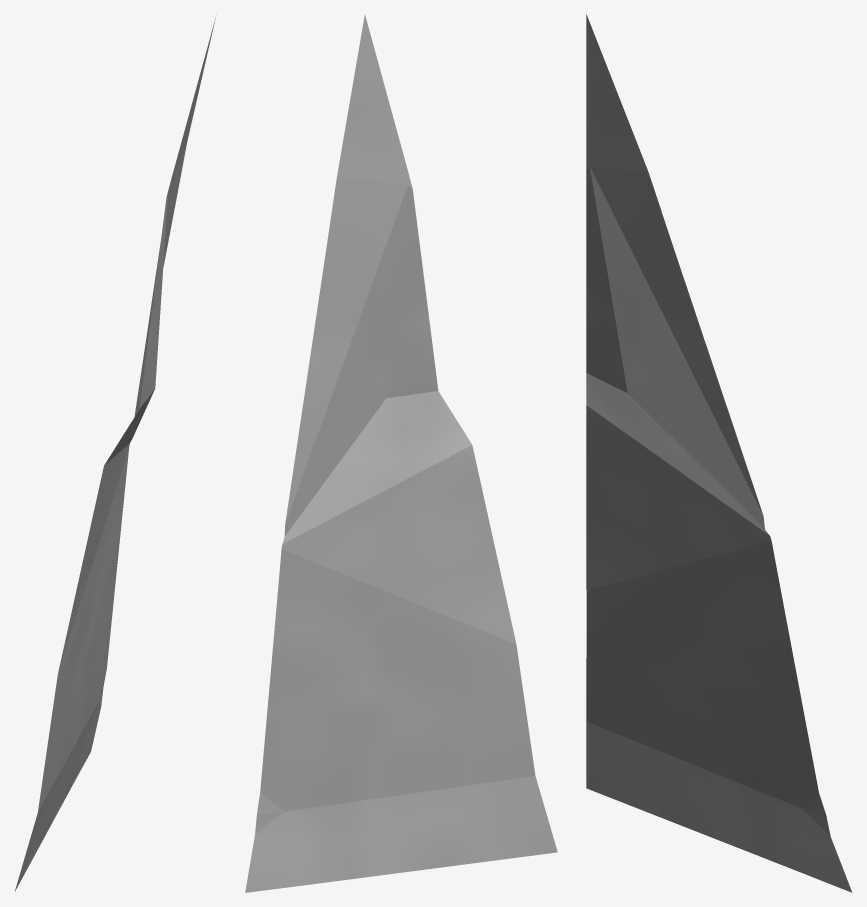
3 views of the same model, side by side, from view 1: azimuth 30°, elevation 25°; view 2: azimuth 150°, elevation 25°; view 3: azimuth 270°, elevation 25° (orthographic). The views are drawn at different scales.
Size of the model in its own units: 0.0278 by 0.109 by 0.0299.
Materials: 1 (1 with a texture image).
